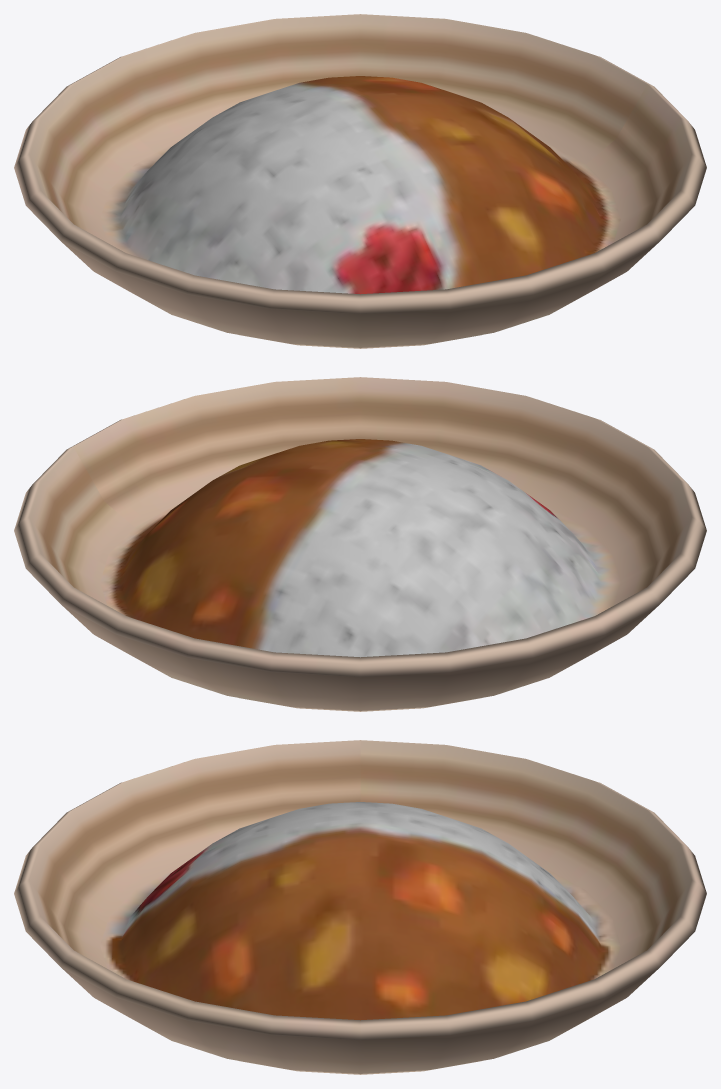
3 renders of one model, top to bottom at view 1: azimuth 30°, elevation 25°; view 2: azimuth 150°, elevation 25°; view 3: azimuth 270°, elevation 25°, orthographic.
Bounding box in the file's own units: 7.11 × 1.65 × 7.11.
Materials: 1 (1 with a texture image).
